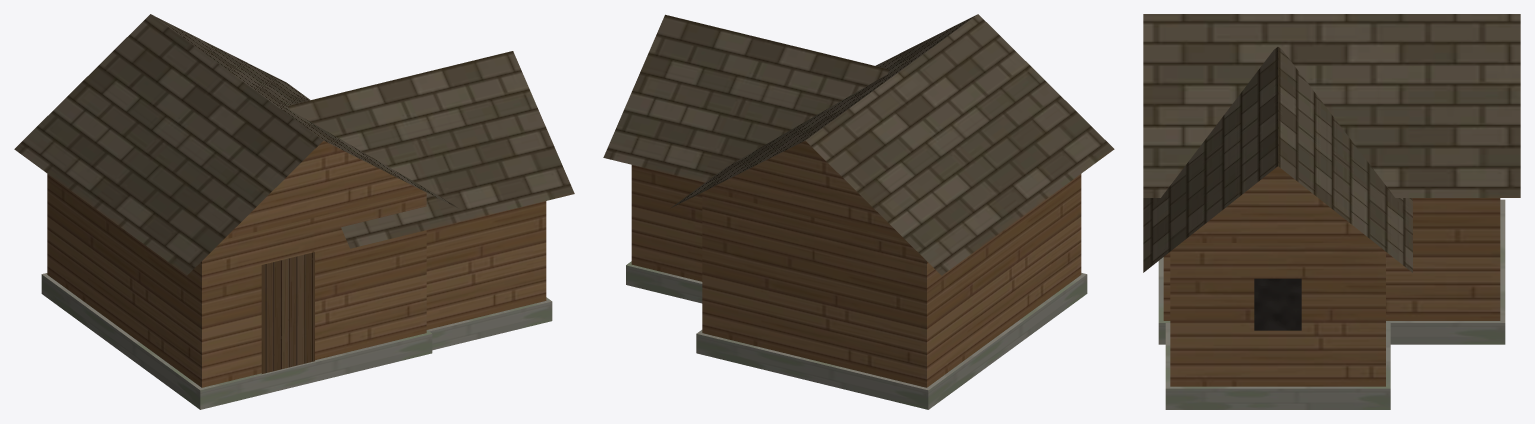
The model's file is ae_forest_wood_medium_l_lod2.glb.
The picture shows the model from 3 angles, left to right: view 1: azimuth 30°, elevation 25°; view 2: azimuth 150°, elevation 25°; view 3: azimuth 270°, elevation 25°; orthographic projection. The views are drawn at different scales.
Visible parts, largest first — view 1: ae_forest_wood_medium_l_lod2; view 2: ae_forest_wood_medium_l_lod2; view 3: ae_forest_wood_medium_l_lod2.
Boxes of the visible parts, <box> form: ae_forest_wood_medium_l_lod2: <box>14,14,574,409</box>; ae_forest_wood_medium_l_lod2: <box>603,14,1114,409</box>; ae_forest_wood_medium_l_lod2: <box>1143,14,1520,409</box>.
Size of the model in its own units: 7.25 by 4.4 by 5.6.
Materials: 1 (1 with a texture image).
